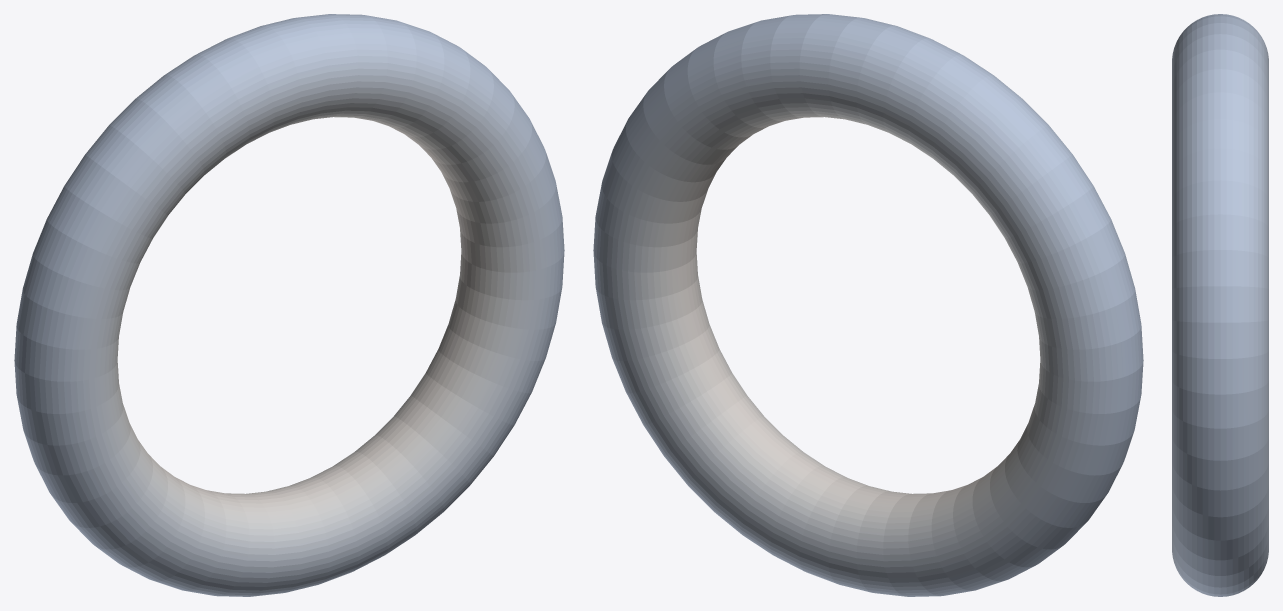
3 views of the same model, side by side, from view 1: azimuth 30°, elevation 25°; view 2: azimuth 150°, elevation 25°; view 3: azimuth 270°, elevation 25° (orthographic). The views are drawn at different scales.
Visible parts, largest first — view 1: world; view 2: world; view 3: world.
Part boxes in pixels (x1,y1,x2,y2): world: (14, 14, 564, 596); world: (593, 14, 1143, 596); world: (1172, 14, 1268, 596).
Size of the model in its own units: 28 by 27.94 by 4.66.
